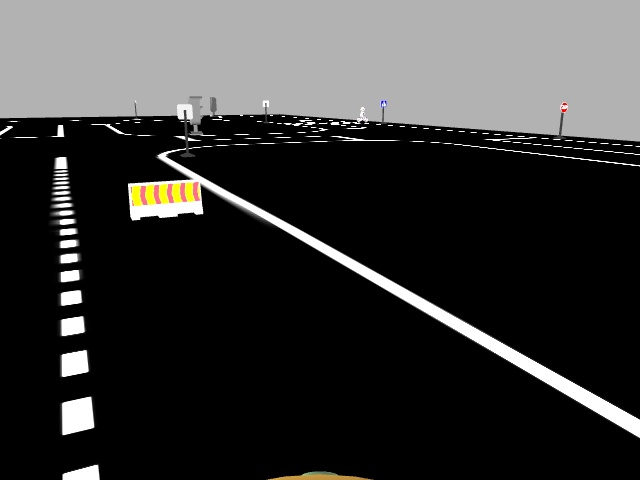ClosedRoadStand: (128, 183, 201, 212)
